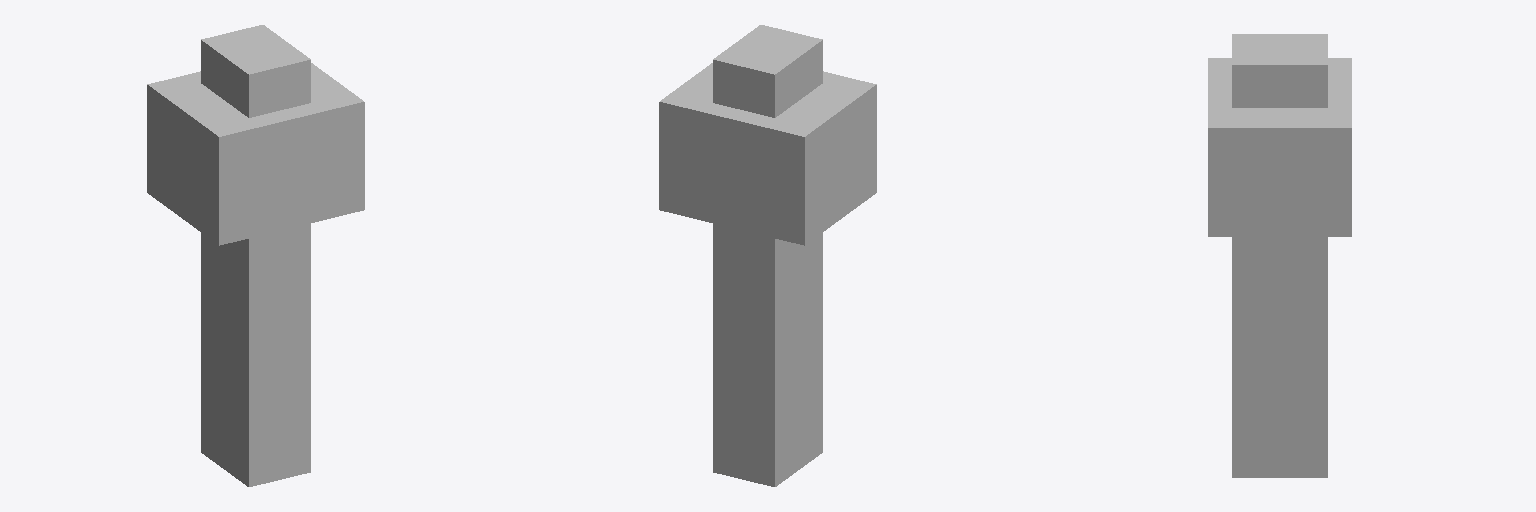
The model's file is AutoHammer.obj.
3 views of the same model, side by side, from view 1: azimuth 30°, elevation 25°; view 2: azimuth 150°, elevation 25°; view 3: azimuth 270°, elevation 25° (orthographic).
Visible parts, largest first — view 1: object 1; view 2: object 1; view 3: object 1.
Part boxes in pixels (x1,y1,x2,y2): object 1: (147, 25, 364, 486); object 1: (659, 25, 876, 486); object 1: (1208, 34, 1351, 477).
Size of the model in its own units: 0.7 by 1.9 by 0.6.